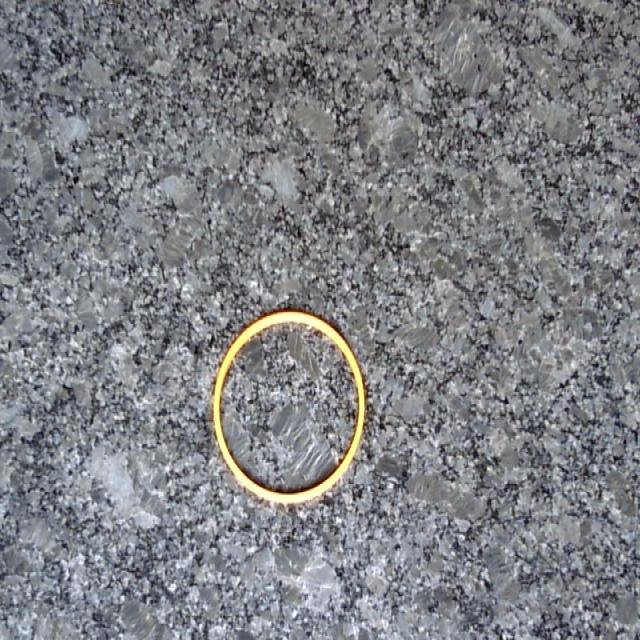orange-ring: (214, 310, 365, 503)
